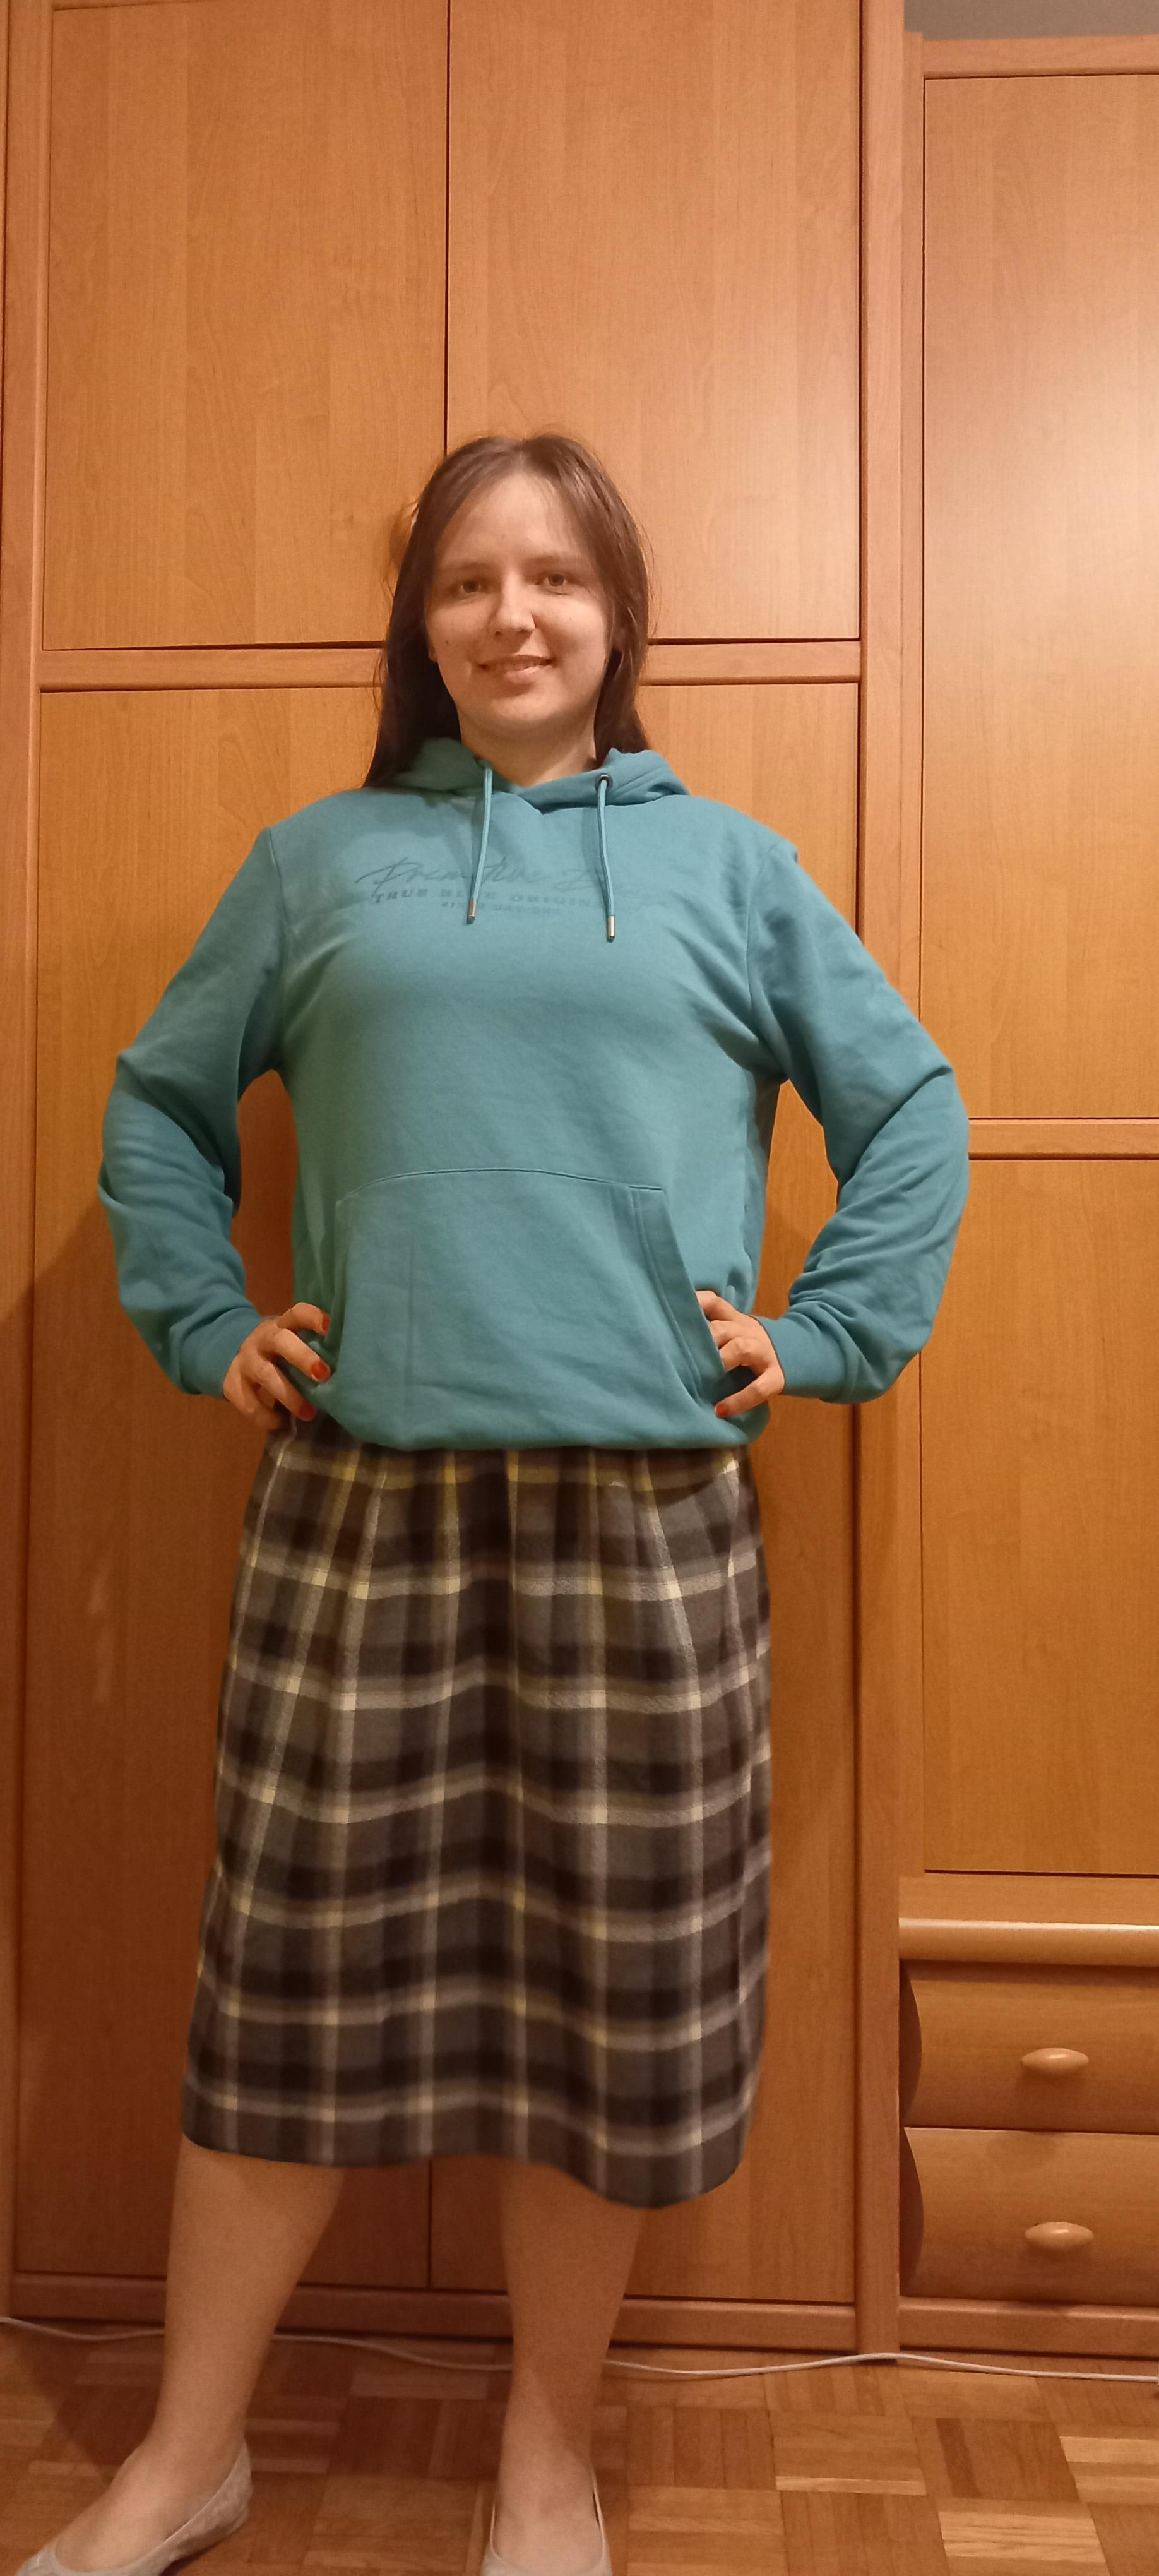skirt: (184, 1406, 773, 2208)
sweater: (102, 744, 973, 1452)
